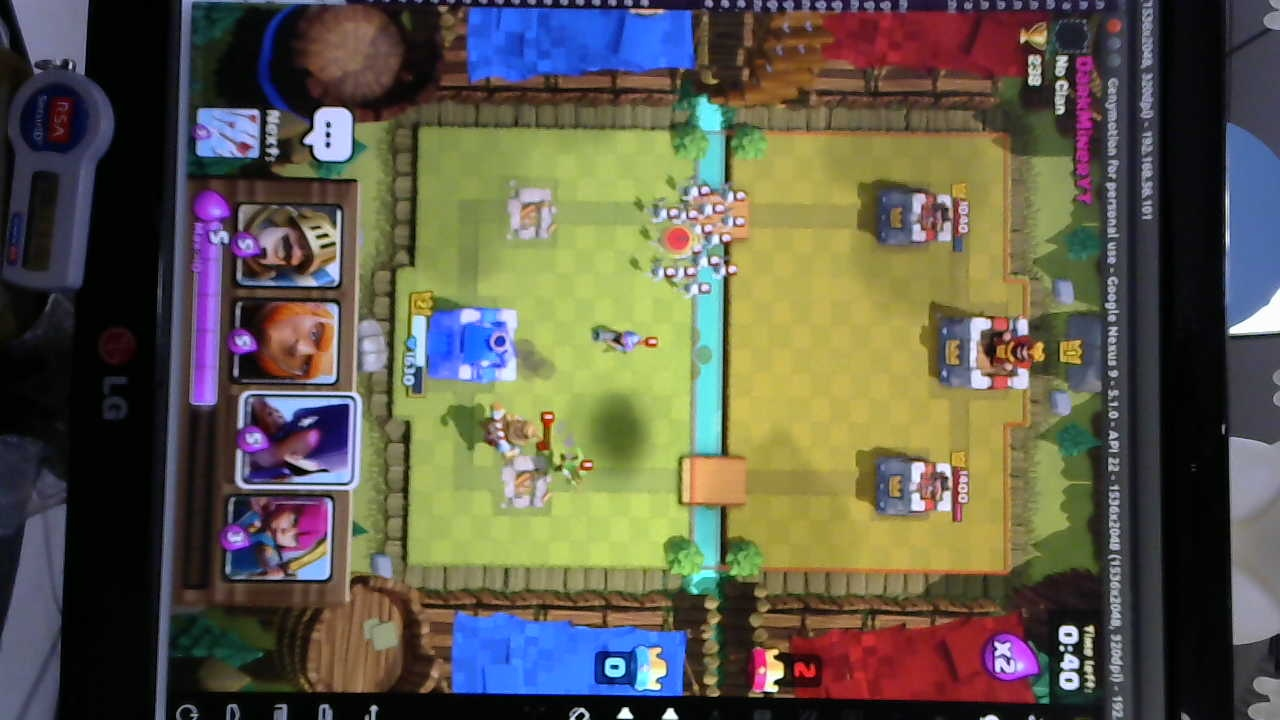darena: (504, 180, 561, 248), (497, 454, 547, 515)
earena: (871, 455, 954, 516), (878, 188, 961, 249)
eking: (939, 313, 1040, 391)
king: (427, 302, 521, 385)
musketeer: (586, 323, 644, 359)
prince: (478, 400, 540, 456)
skeletonarmy: (642, 177, 747, 300)
speargoblin: (548, 442, 590, 490)
